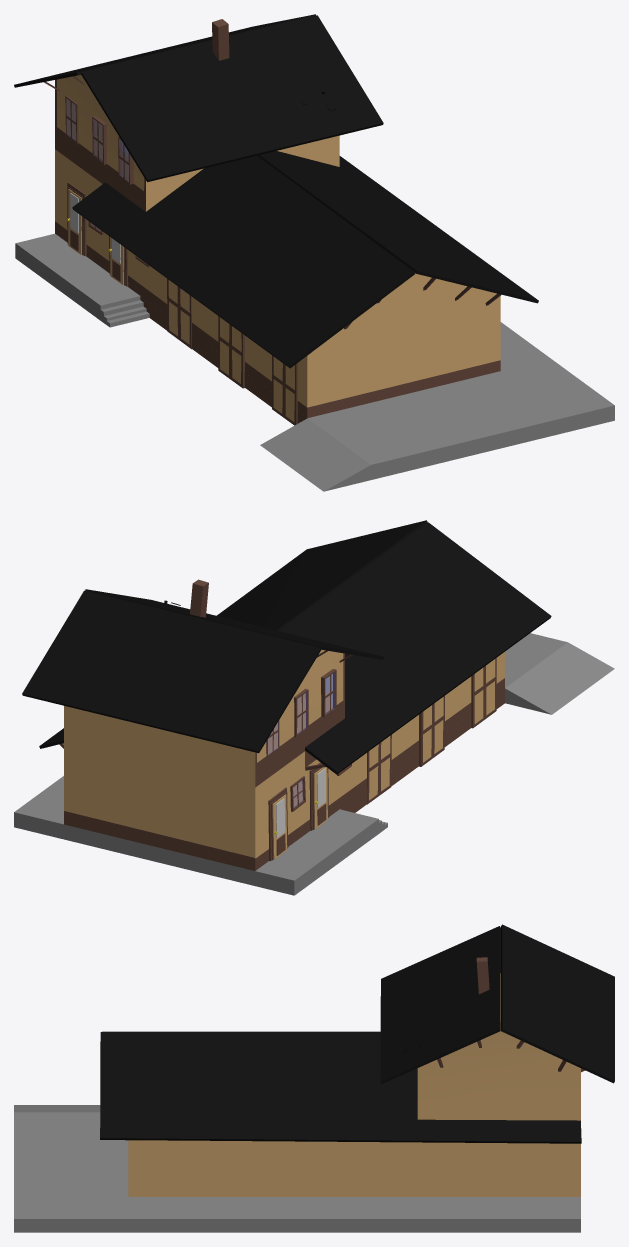
3 renders of one model, top to bottom at view 1: azimuth 30°, elevation 25°; view 2: azimuth 150°, elevation 25°; view 3: azimuth 270°, elevation 25°, orthographic. The views are drawn at different scales.
Parts seen in each view (by area): view 1: node_MeshObject1231792128-PolyPaper22, node_MeshObject1803871232-PolyGlass24; view 2: node_MeshObject1231792128-PolyPaper22, node_MeshObject1803871232-PolyGlass24; view 3: node_MeshObject1231792128-PolyPaper22.
Part boxes in pixels (x1,y1,x2,y2): node_MeshObject1231792128-PolyPaper22: (14, 14, 614, 491); node_MeshObject1803871232-PolyGlass24: (66, 99, 128, 230); node_MeshObject1231792128-PolyPaper22: (14, 520, 614, 895); node_MeshObject1803871232-PolyGlass24: (268, 672, 335, 807); node_MeshObject1231792128-PolyPaper22: (14, 924, 614, 1232).
Bounding box in the file's own units: 2.21 × 1.74 × 4.39.
